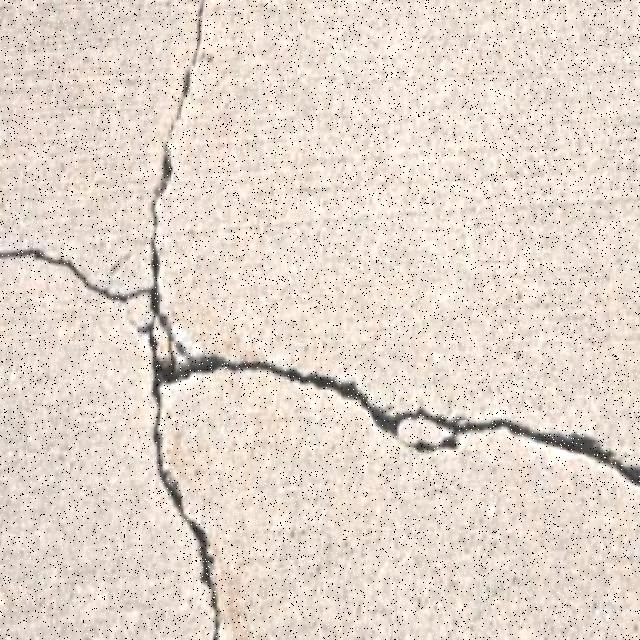Crack: (0, 70, 640, 639)
